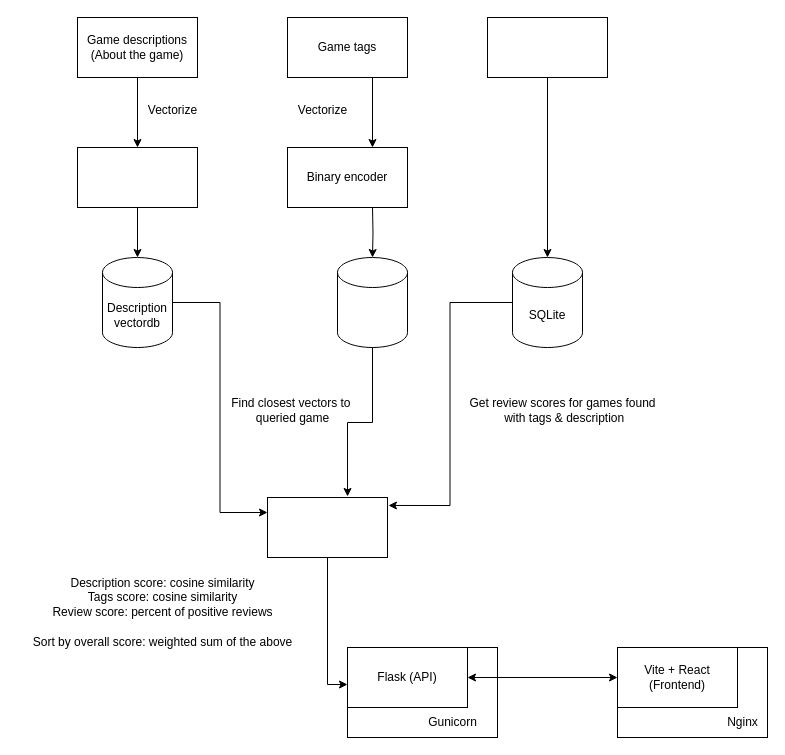
This 785x755 diagram has some shape labels left out. Each missing label, with the centre of its shape:
"General game info (appID, names, user scores)" belongs at (547,47).
"Gensim's Doc2Vec" belongs at (137,177).
"Recommender ensemble" belongs at (327,527).
"Tags vectordb" belongs at (372,302).
